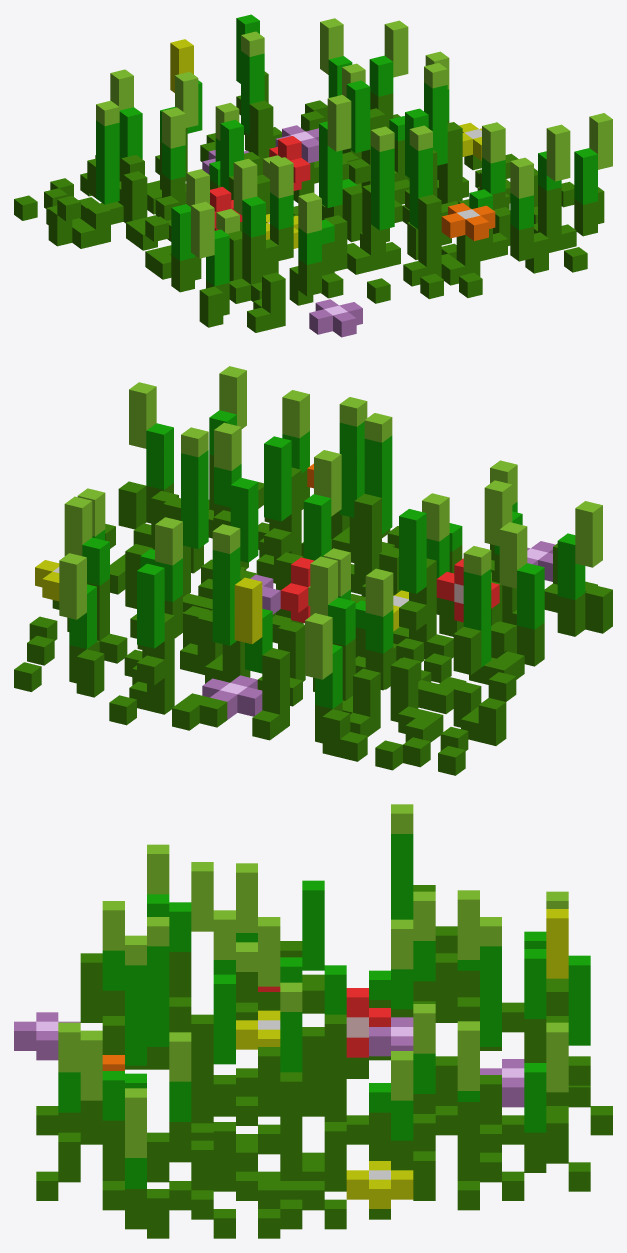
Rendered from GrassLargePatch1.obj.
3 views of the same model, one above another, from view 1: azimuth 30°, elevation 25°; view 2: azimuth 150°, elevation 25°; view 3: azimuth 270°, elevation 25° (orthographic). The views are drawn at different scales.
Size of the model in its own units: 29 by 9 by 27.
Materials: 1 (1 with a texture image).
